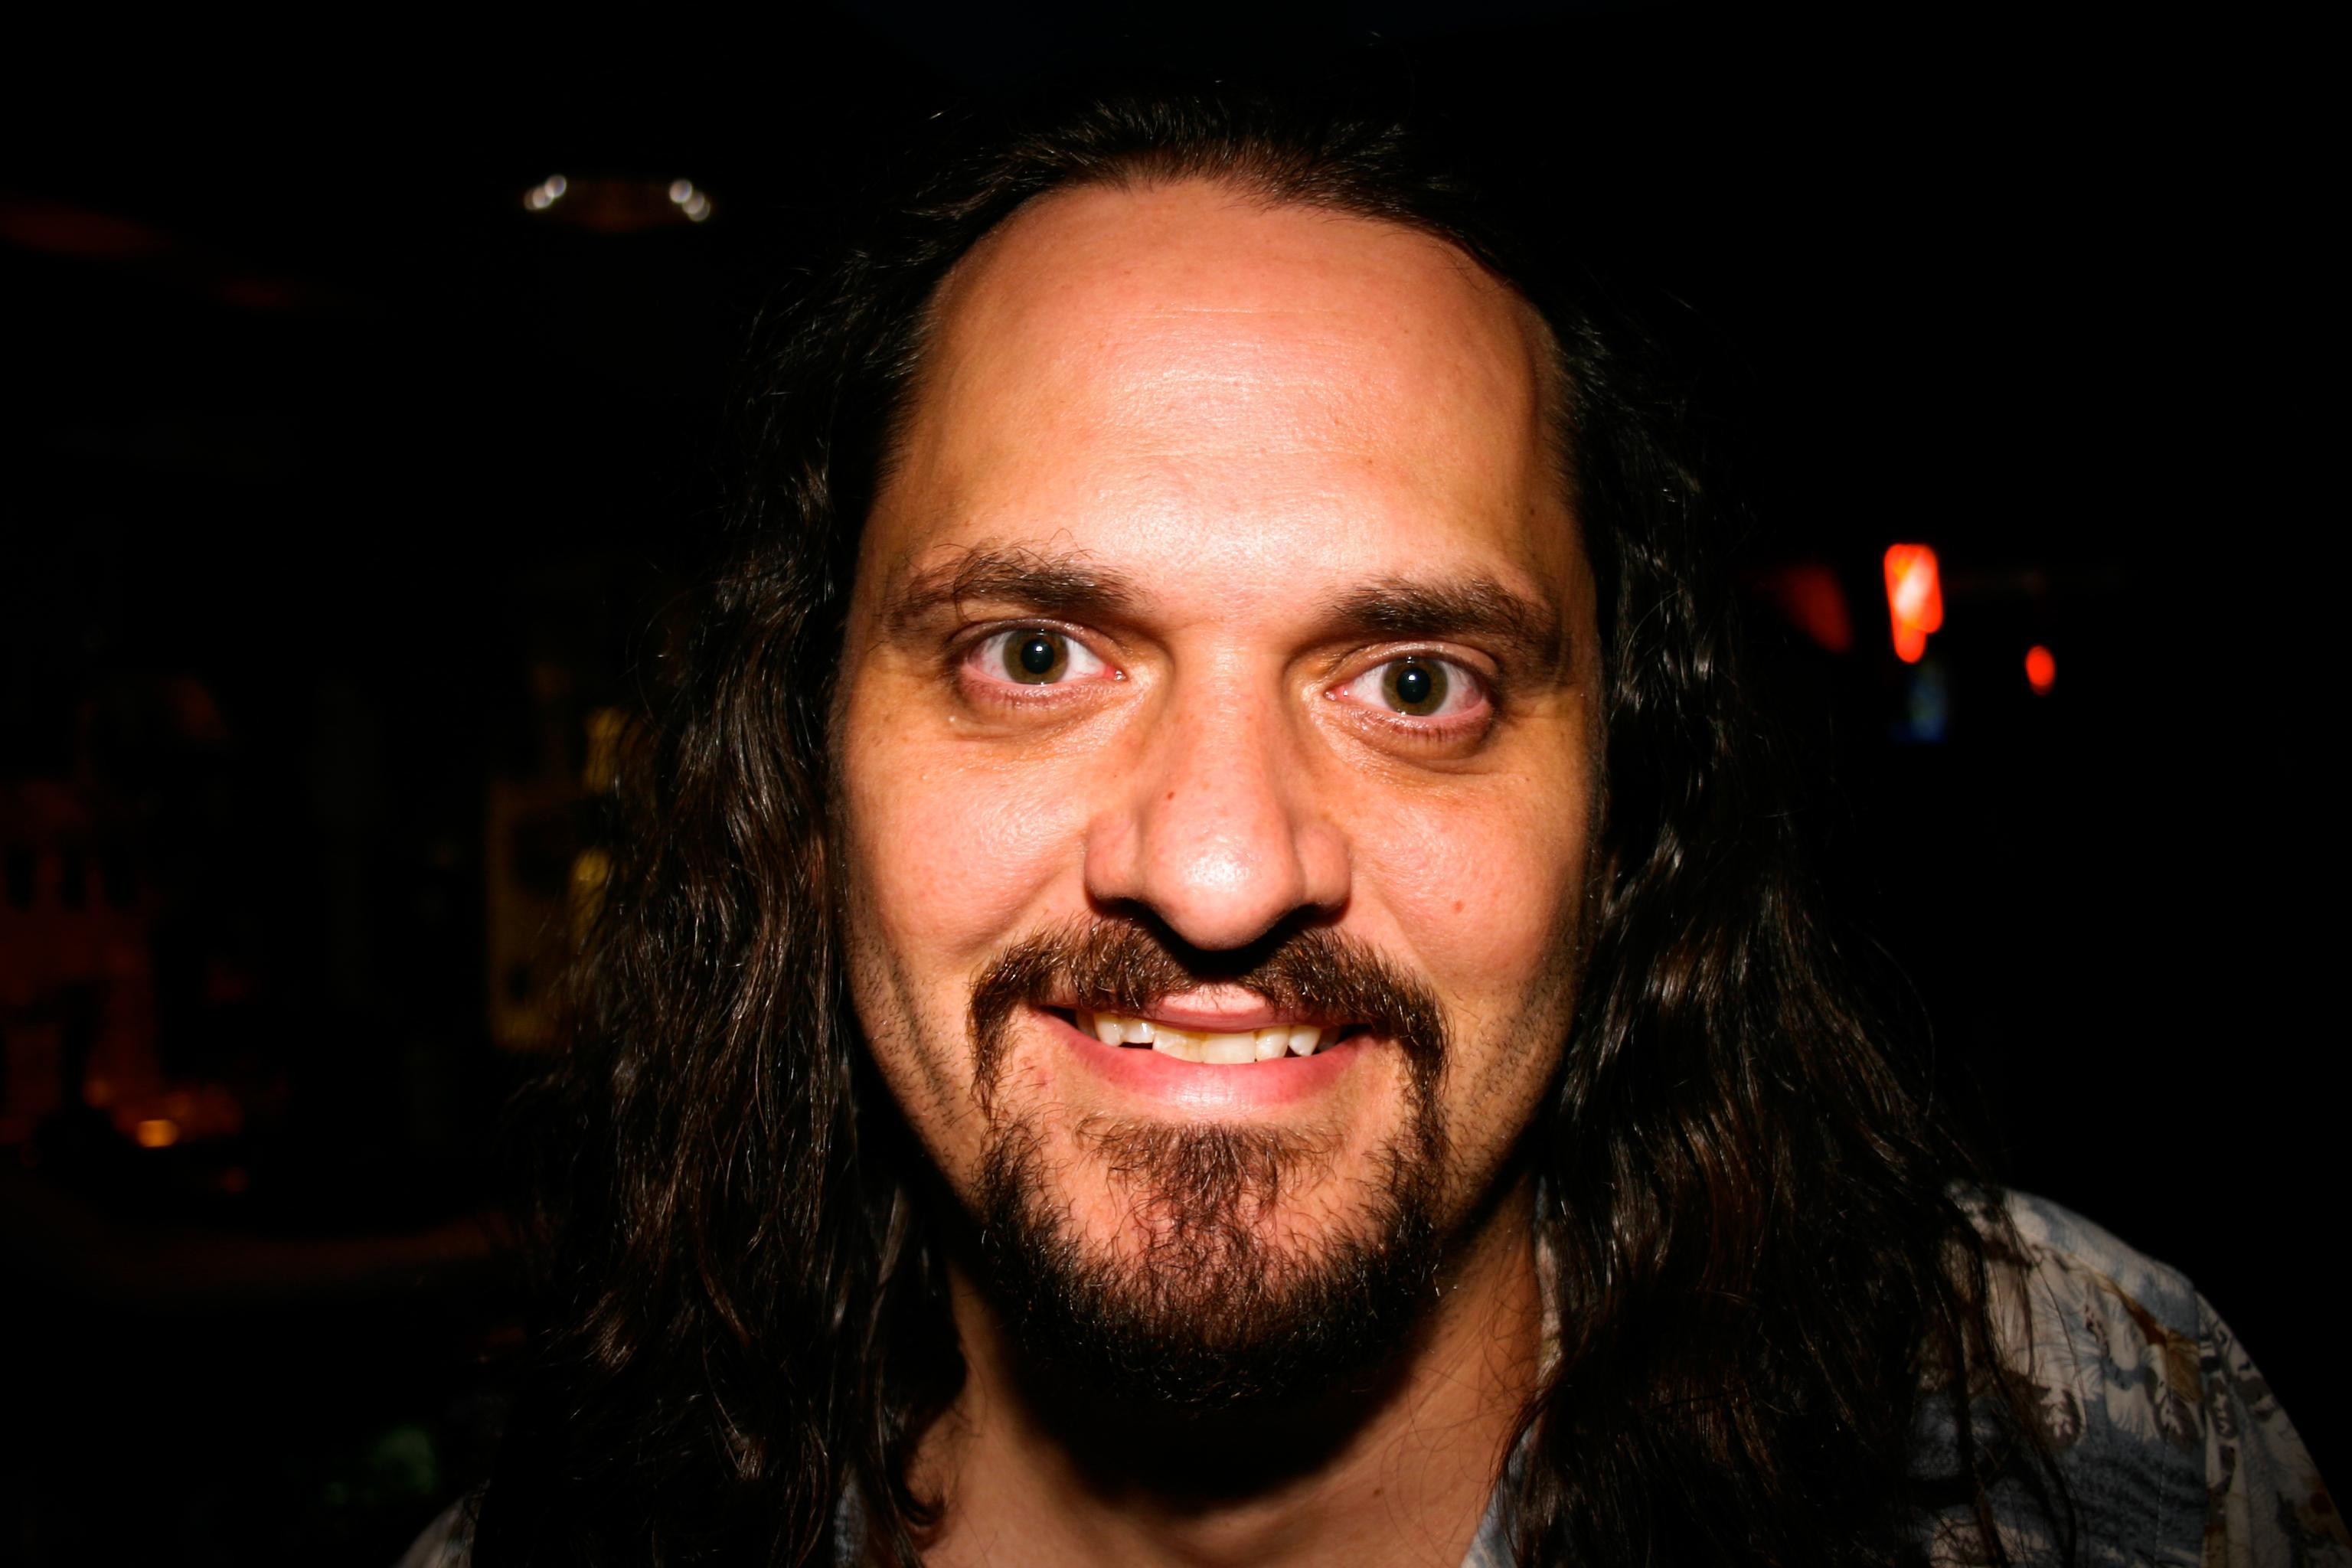Eyebags: (1305, 703, 1498, 791), (961, 686, 1155, 754)
